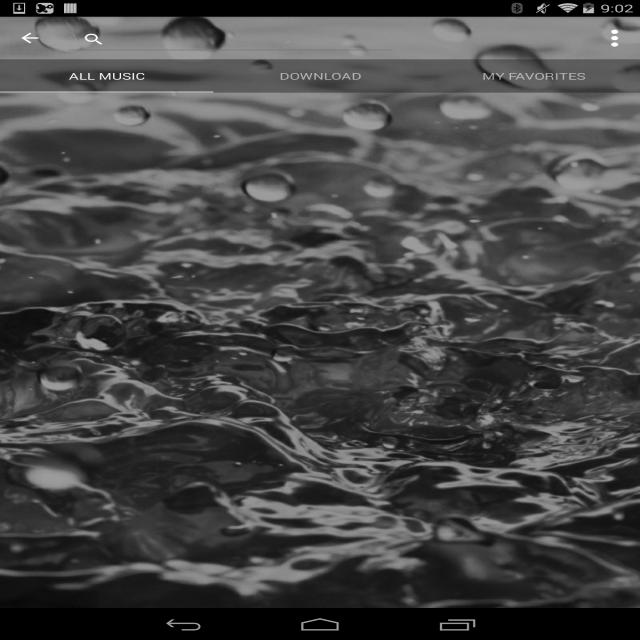EditText: (68, 26, 393, 50)
ImageButton: (0, 19, 60, 57)
ImageView: (213, 91, 427, 93), (426, 91, 640, 92), (0, 91, 213, 92)
TextView: (213, 59, 427, 93), (426, 59, 640, 92), (0, 59, 213, 92), (589, 22, 640, 54)
